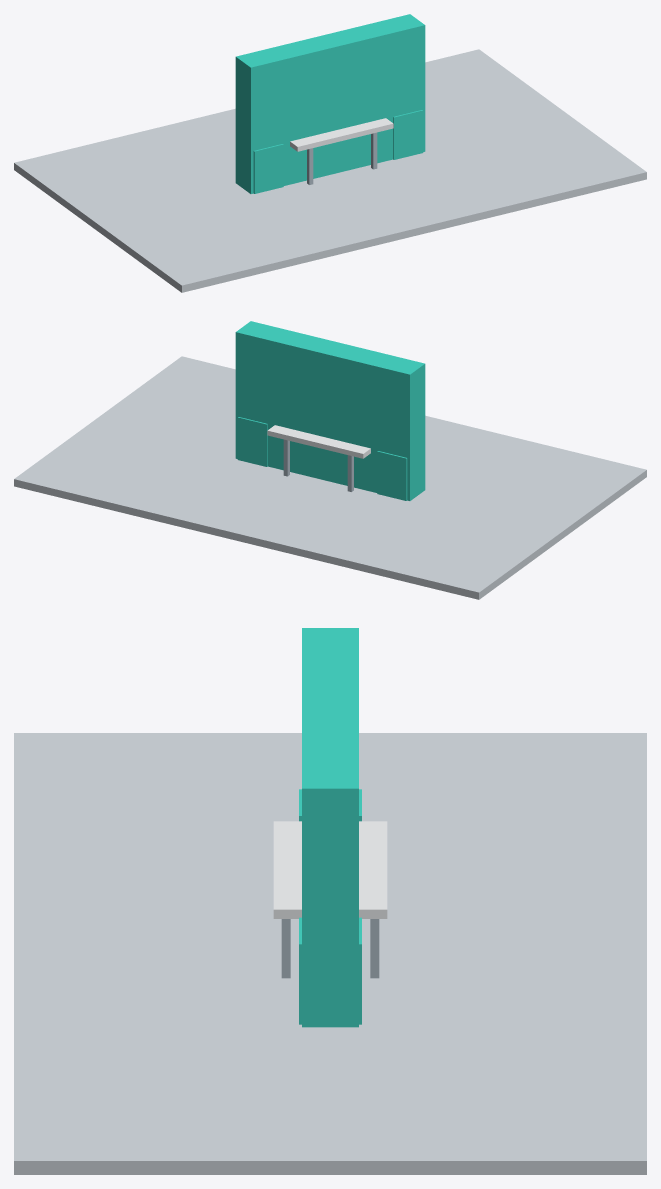
The picture shows the model from 3 angles, top to bottom: view 1: azimuth 30°, elevation 25°; view 2: azimuth 150°, elevation 25°; view 3: azimuth 270°, elevation 25°; orthographic projection. The views are drawn at different scales.
Parts seen in each view (by area): view 1: Exhibition Booth Concept; view 2: Exhibition Booth Concept; view 3: Exhibition Booth Concept.
Boxes of the visible parts, x1,y1,x2,y2 form: Exhibition Booth Concept: [14, 14, 646, 292]; Exhibition Booth Concept: [14, 321, 646, 599]; Exhibition Booth Concept: [14, 628, 646, 1174].
Bounding box in the file's own units: 8 × 2.2 × 5.
